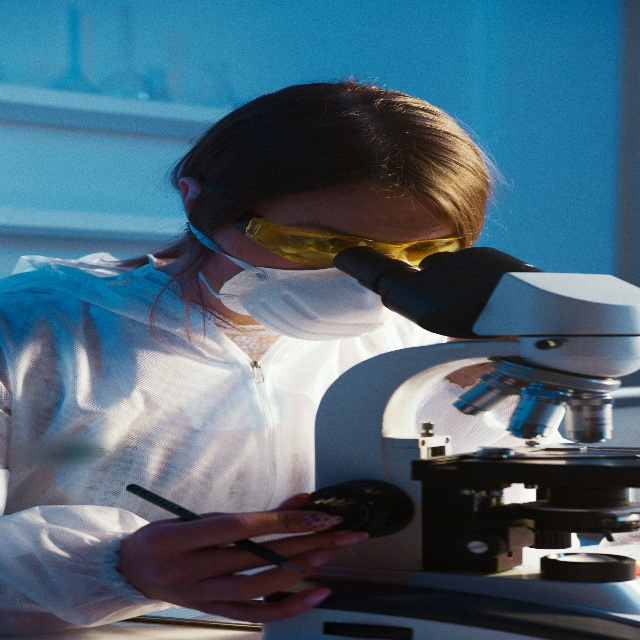Gafas: (235, 207, 466, 286)
Mascara: (217, 264, 391, 345)
Sin_guantes: (120, 483, 373, 635)
